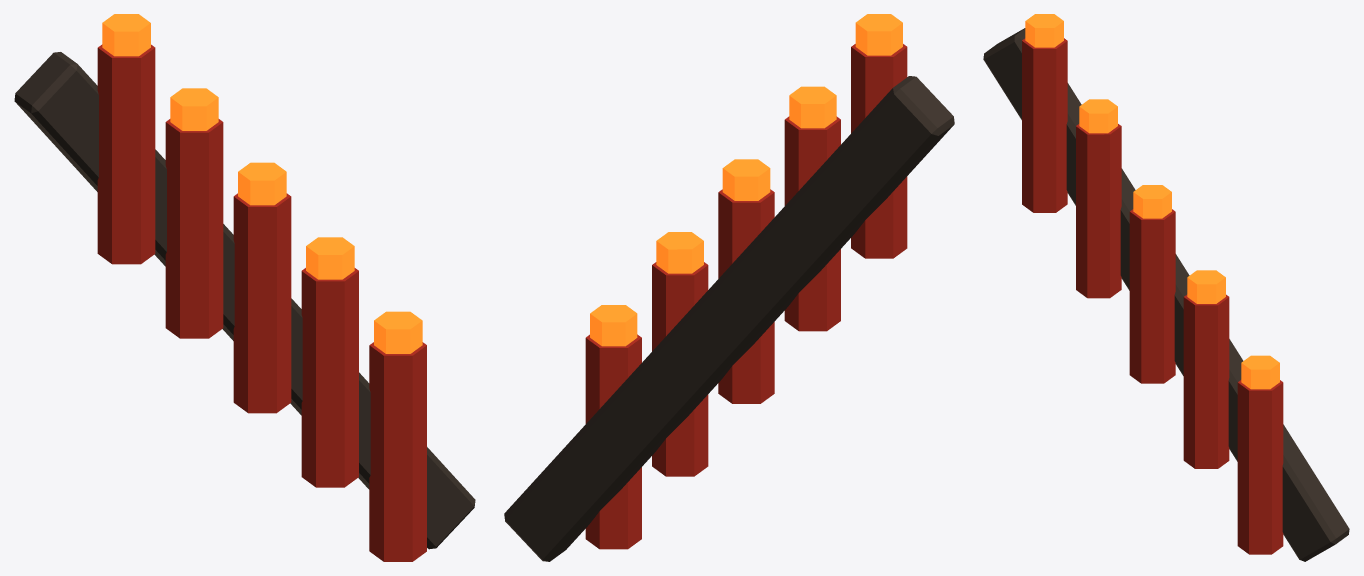
File: npc_flare_bandolier.glb
The picture shows the model from 3 angles, left to right: view 1: azimuth 30°, elevation 25°; view 2: azimuth 150°, elevation 25°; view 3: azimuth 330°, elevation 25°; orthographic projection. The views are drawn at different scales.
Parts seen in each view (by area): view 1: part.npc_flare_bandolier; view 2: part.npc_flare_bandolier; view 3: part.npc_flare_bandolier.
Part boxes in pixels (x1,y1,x2,y2): part.npc_flare_bandolier: (14, 14, 475, 561); part.npc_flare_bandolier: (504, 14, 954, 561); part.npc_flare_bandolier: (983, 14, 1349, 561).
Size of the model in its own units: 0.3384 by 0.4438 by 0.057.
